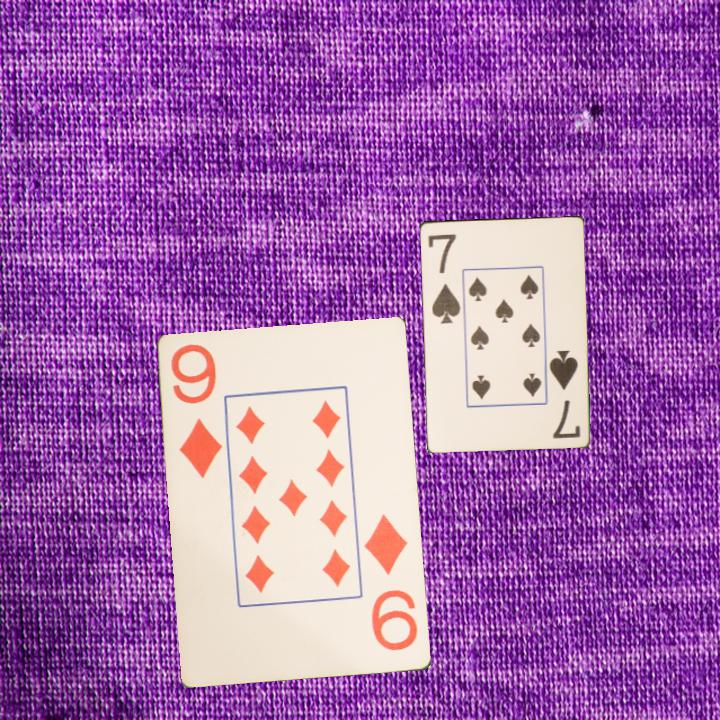7s: (424, 230, 463, 327), (546, 346, 583, 441)
9d: (361, 511, 421, 655), (168, 340, 226, 482)
